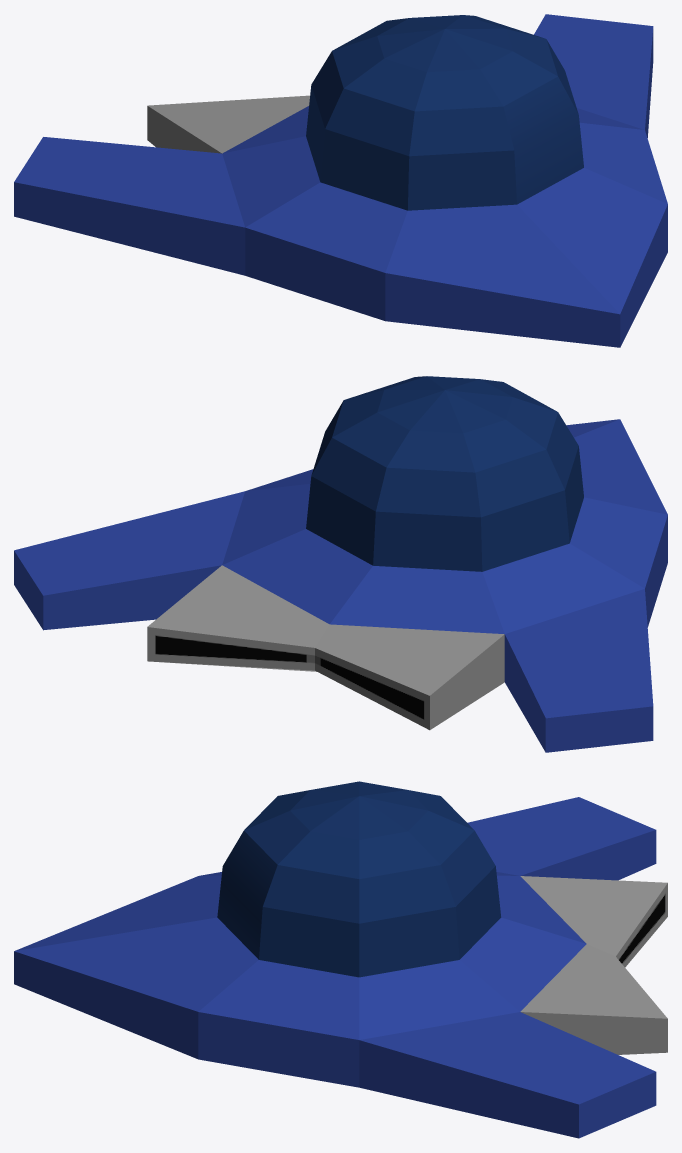
File: bomber.fbx
3 views of the same model, one above another, from view 1: azimuth 30°, elevation 25°; view 2: azimuth 150°, elevation 25°; view 3: azimuth 270°, elevation 25° (orthographic).
Visible parts, largest first — view 1: polySurface8; view 2: polySurface8; view 3: polySurface8.
Boxes of the visible parts, <box> form: polySurface8: <box>14,14,667,347</box>; polySurface8: <box>14,376,667,752</box>; polySurface8: <box>14,781,667,1138</box>.
Size of the model in its own units: 8.02 by 2.68 by 7.2.
1 material, 1 textured.
